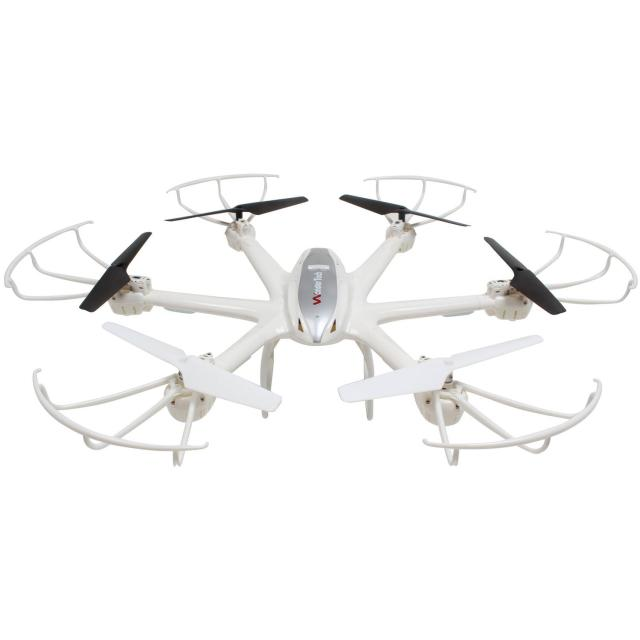drone: (0, 159, 640, 459)
